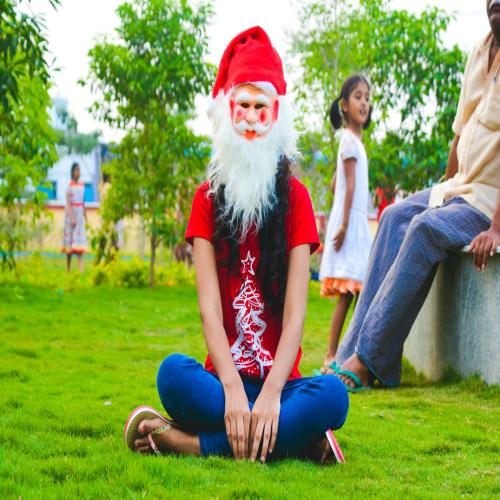Santa: (206, 25, 297, 225)
